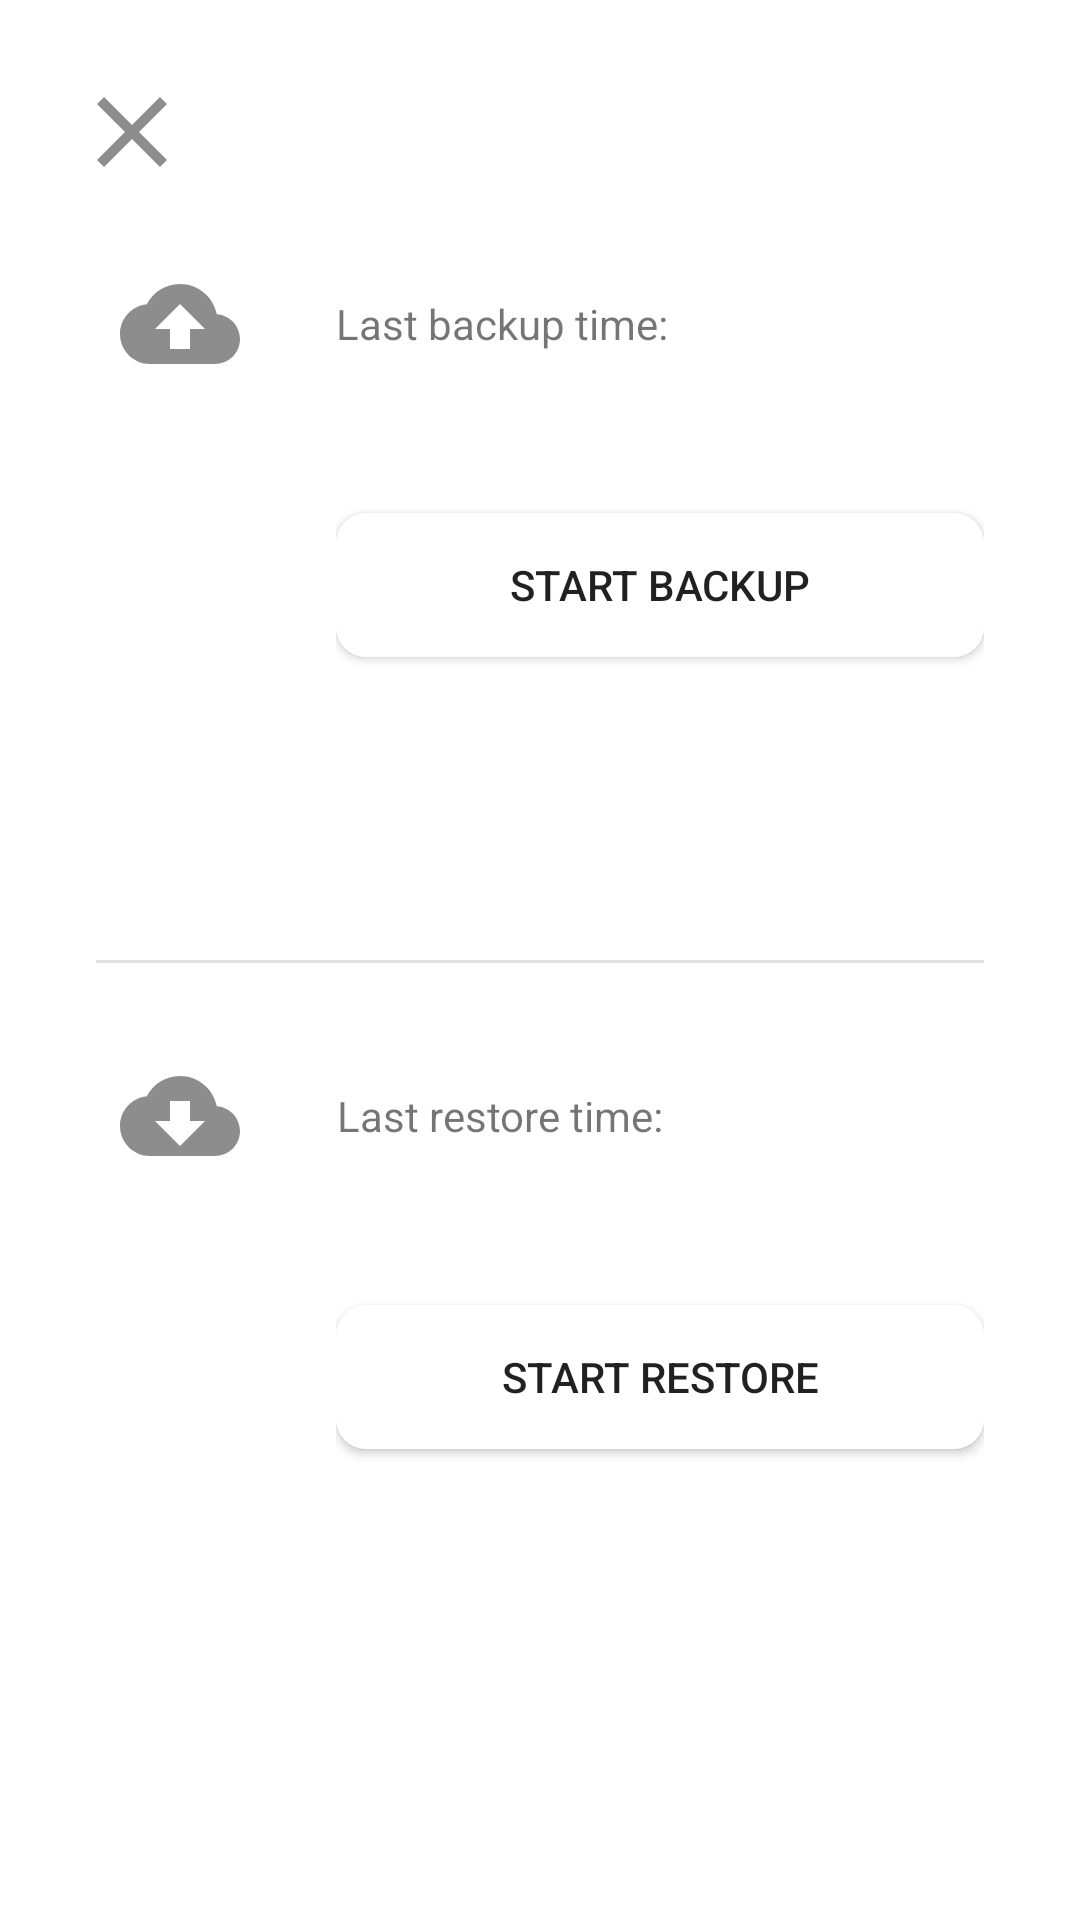

Named icons in this screenshot (1080×1920) and their centers, [x,y]:
close: [132,132]
cloud download: [180,1116]
cloud upload: [180,324]
